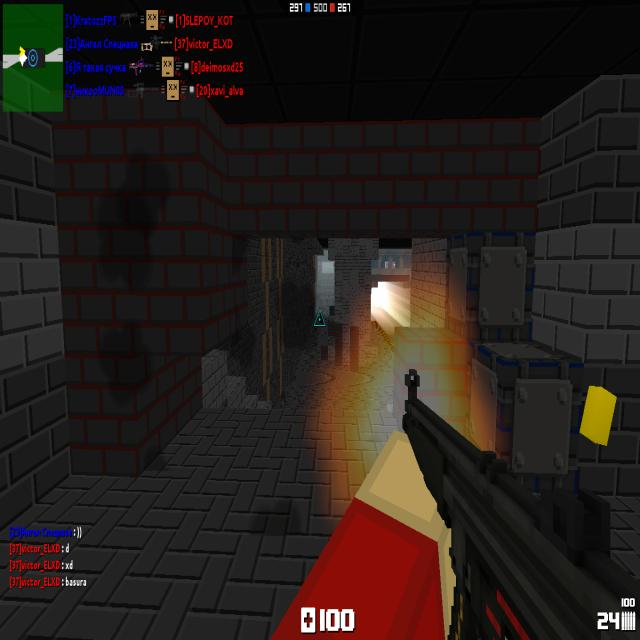enemy: (318, 306, 323, 326), (332, 262, 335, 272), (392, 262, 396, 268)
